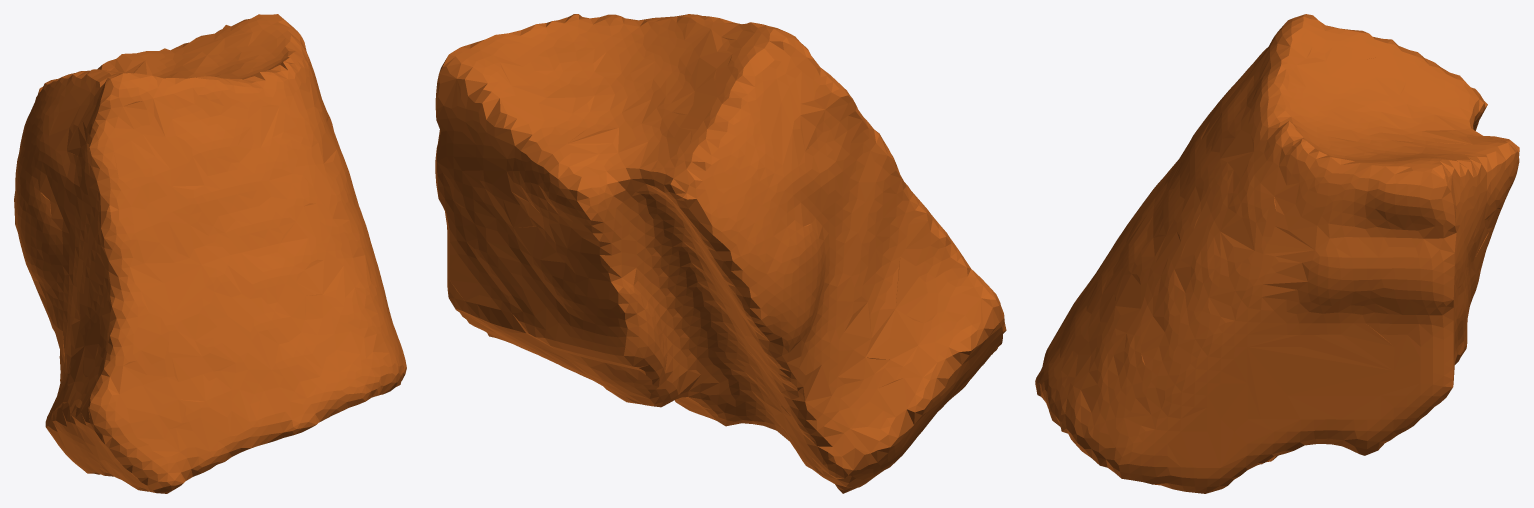
Rendered from Model_10040_LH__Area_8b_of_cortex_(A8b).obj.
3 views of the same model, side by side, from view 1: azimuth 30°, elevation 25°; view 2: azimuth 150°, elevation 25°; view 3: azimuth 270°, elevation 25° (orthographic). The views are drawn at different scales.
Size of the model in its own units: 3.31 by 3.59 by 3.64.
